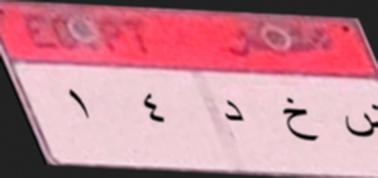1: (62, 84, 94, 125)
4: (140, 90, 167, 130)
daal: (219, 94, 245, 132)
khaa: (276, 92, 320, 148)
